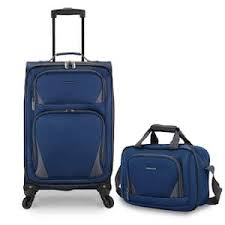suitcase: (20, 4, 117, 208)
